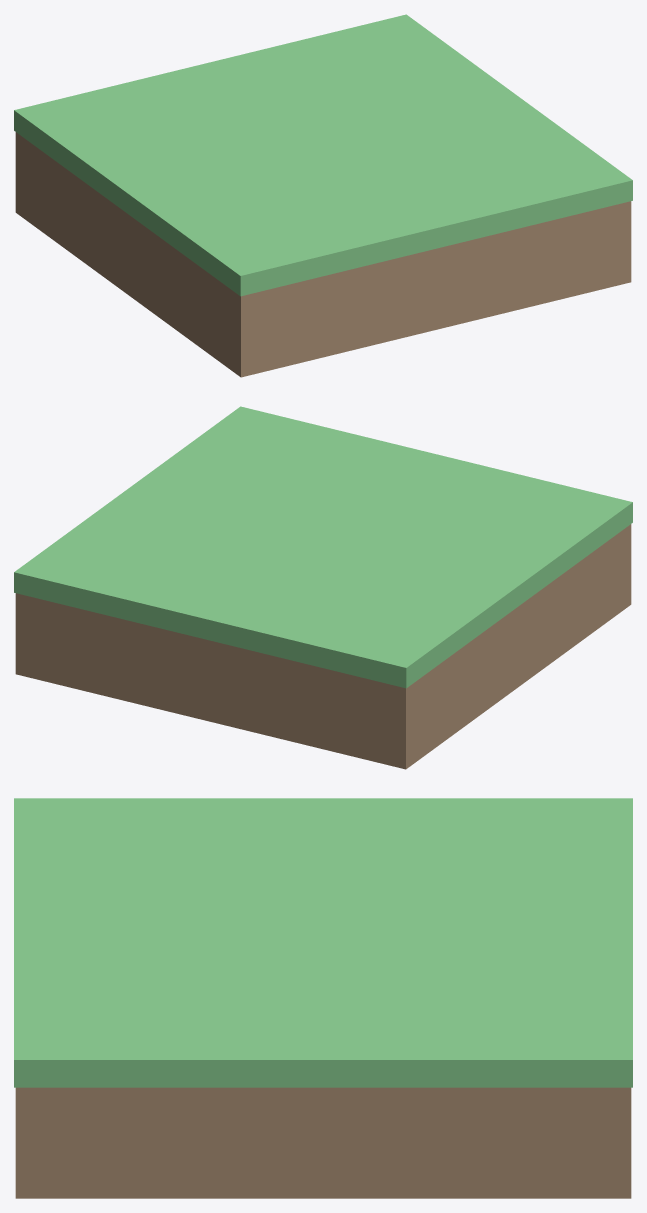
The model's file is plat_4x4.gltf.
The picture shows the model from 3 angles, top to bottom: view 1: azimuth 30°, elevation 25°; view 2: azimuth 150°, elevation 25°; view 3: azimuth 270°, elevation 25°; orthographic projection. The views are drawn at different scales.
Parts seen in each view (by area): view 1: plat_4x4_1, plat_4x4_0; view 2: plat_4x4_1, plat_4x4_0; view 3: plat_4x4_1, plat_4x4_0.
Part boxes in pixels (x1,y1,x2,y2): plat_4x4_1: (14, 14, 632, 296); plat_4x4_0: (15, 132, 631, 377); plat_4x4_1: (14, 406, 632, 688); plat_4x4_0: (15, 524, 631, 769); plat_4x4_1: (14, 798, 632, 1087); plat_4x4_0: (15, 1087, 631, 1198).
Size of the model in its own units: 4.02 by 1 by 4.02.
